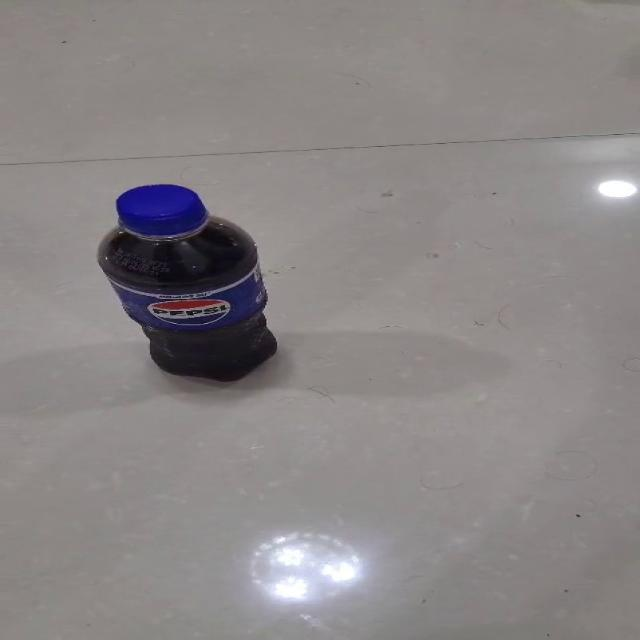plastic: (95, 182, 277, 382)
